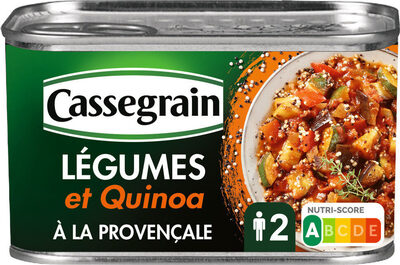Rata & Quinoa: (20, 13, 380, 252)
